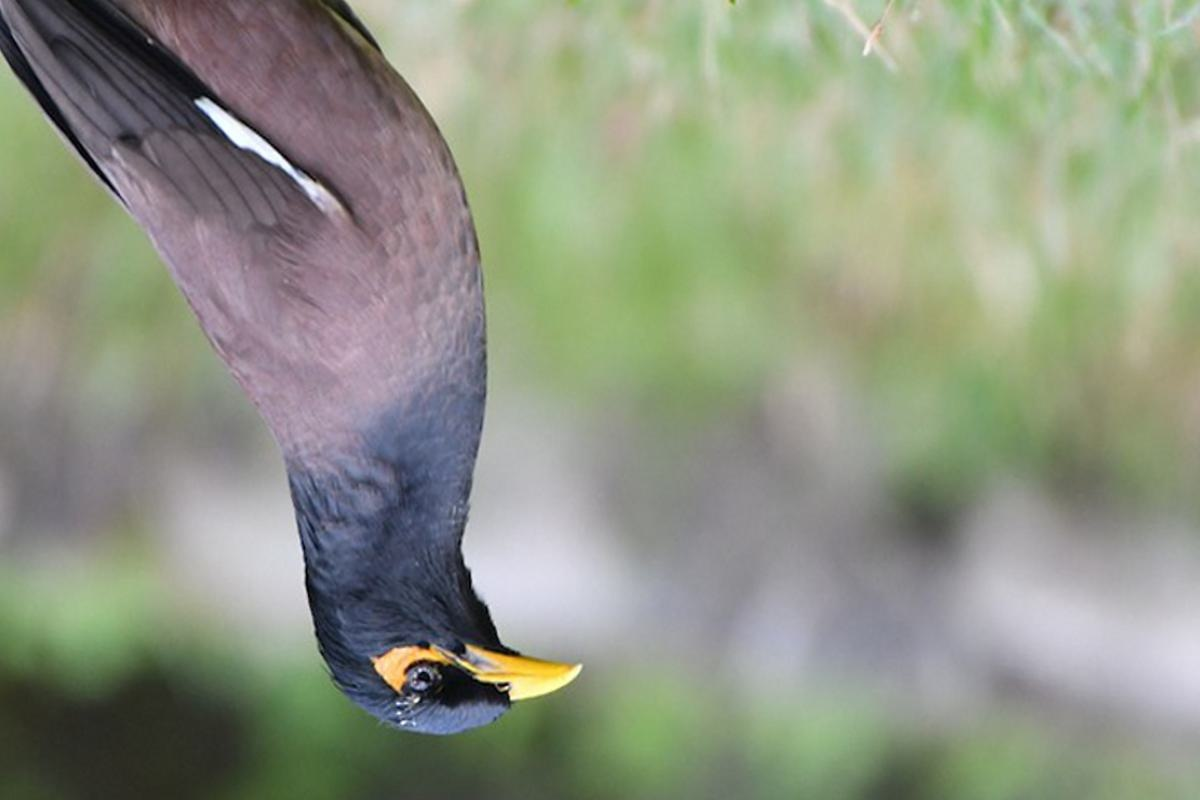myna: (1, 1, 638, 728)
